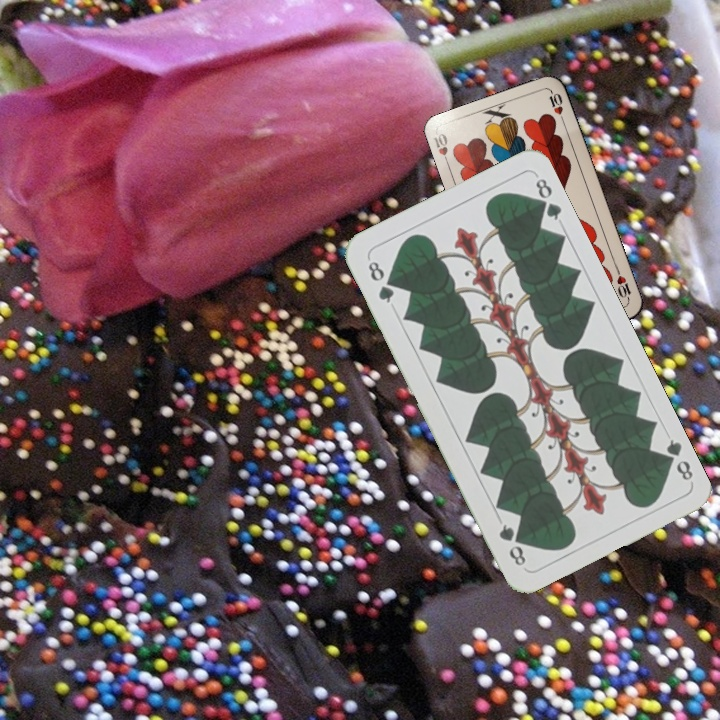G8: (657, 435, 696, 484), (363, 257, 397, 306)
H10: (429, 129, 452, 169), (612, 265, 634, 305)
